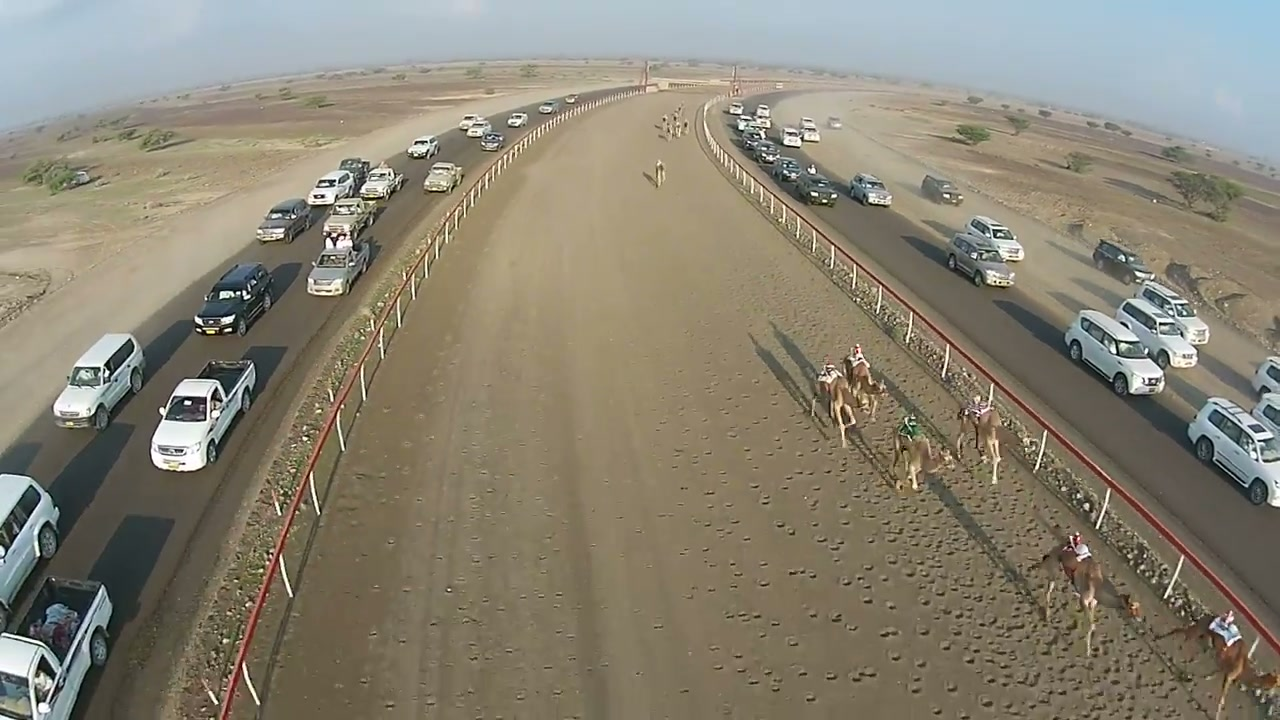animal_footprint: (744, 429, 1200, 719)
